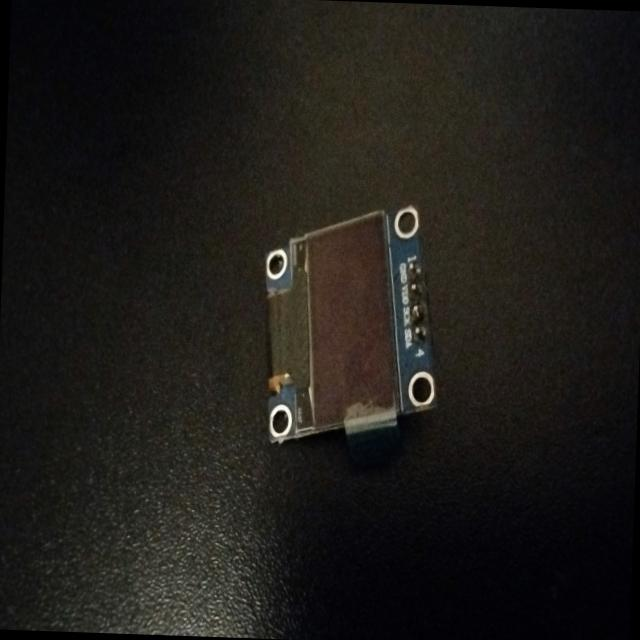oled: (248, 192, 458, 454)
